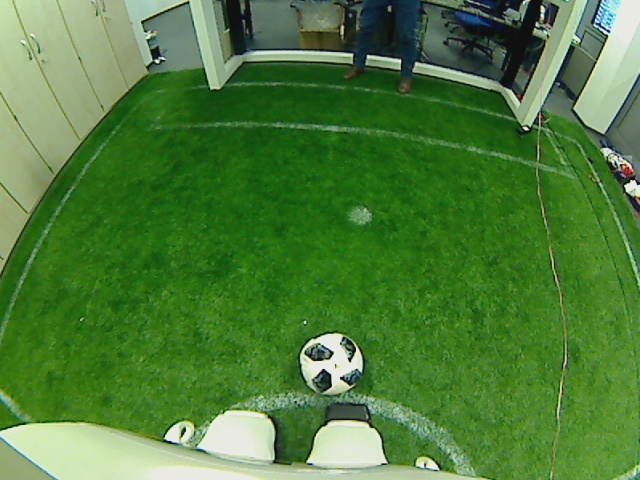ball: (296, 331, 366, 399)
